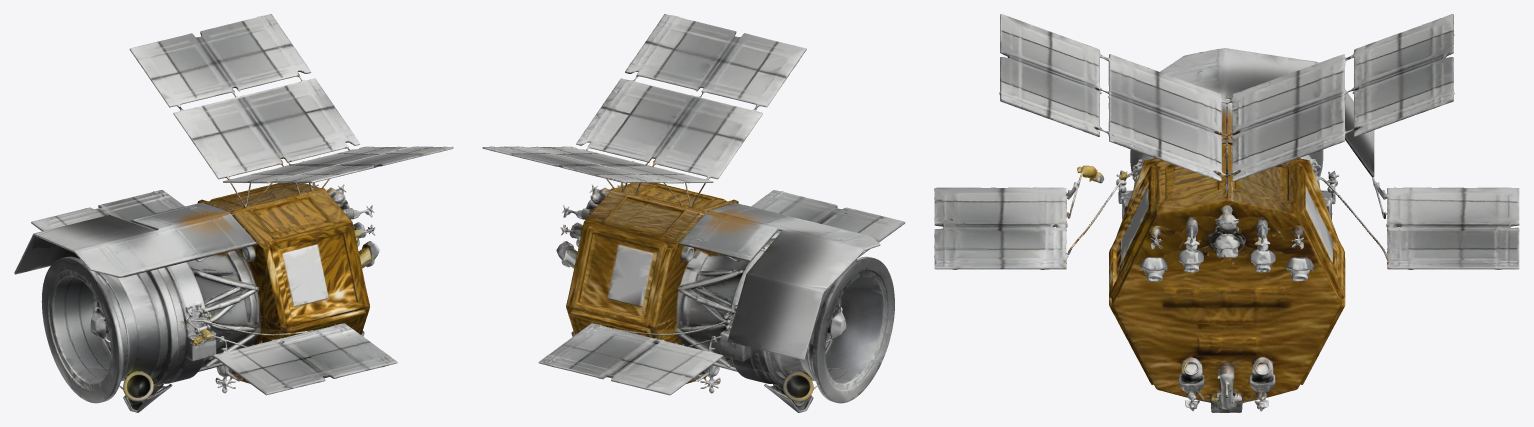
File: akari.glb
3 views of the same model, side by side, from view 1: azimuth 30°, elevation 25°; view 2: azimuth 150°, elevation 25°; view 3: azimuth 270°, elevation 25° (orthographic). The views are drawn at different scales.
Bounding box in the file's own units: 1.35 × 1.25 × 1.9.
1 material, 1 textured.
